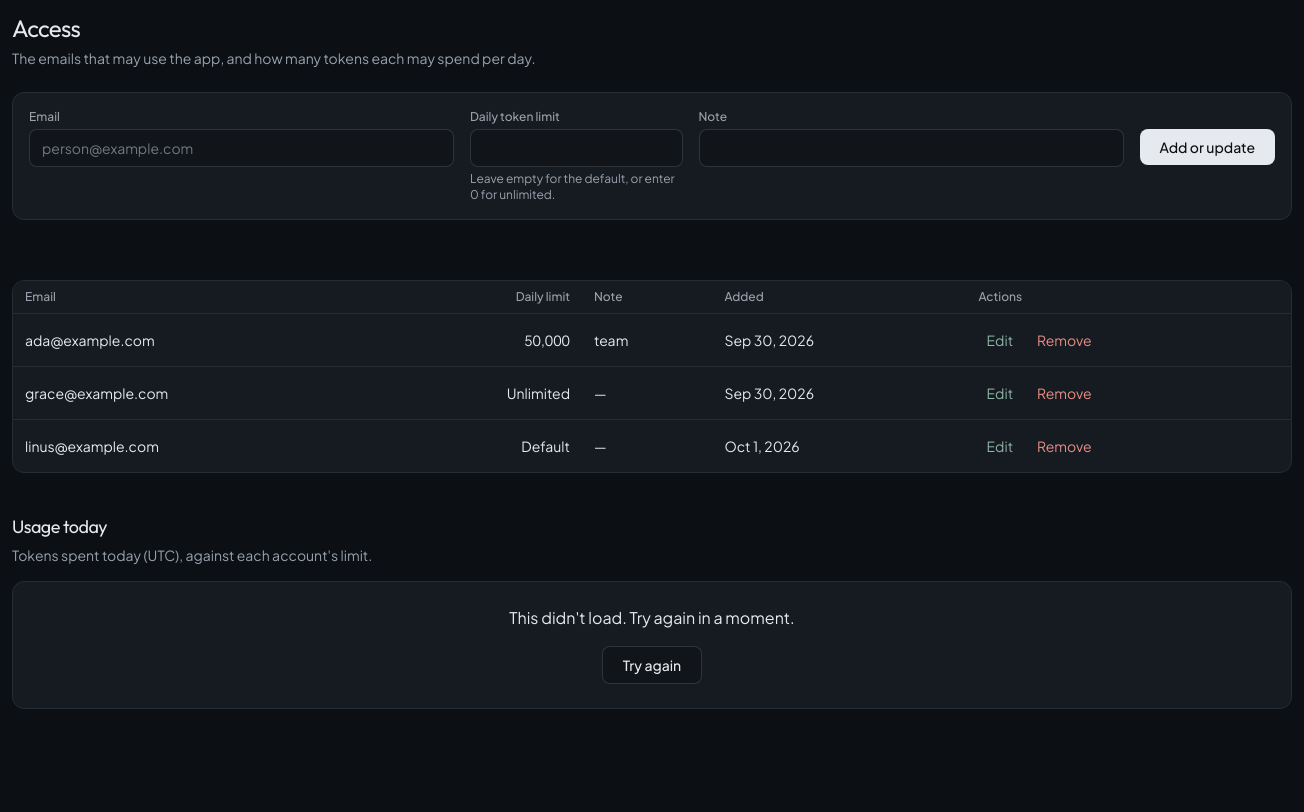
Test case: AccessClientPage — usage today › a usage that fails does not take the access list down, and can be retried
The image size is (1304, 812).
expect the button "Reload" is not shown: met
Click the button "Try again": (652, 665) [602,646,702,684]
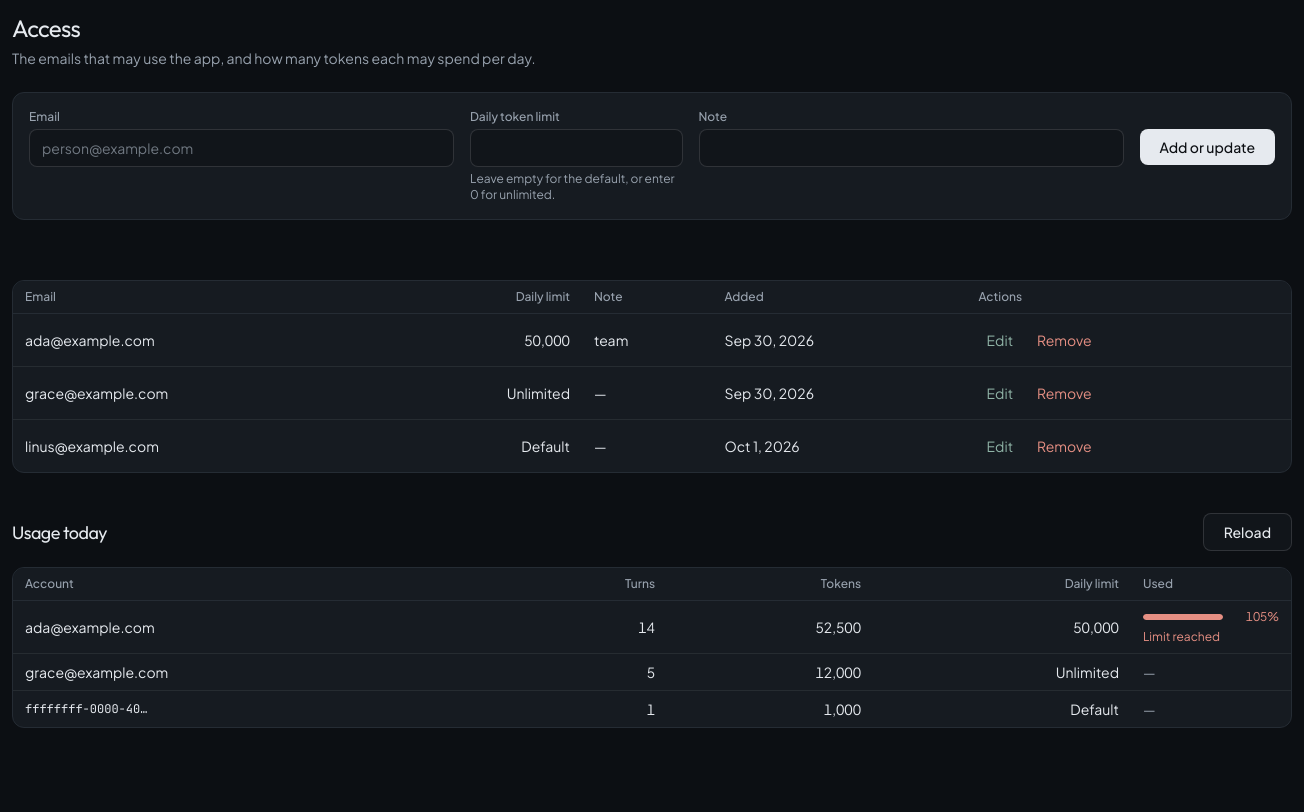
expect the button "Reload" is shown: met, box [1203,513,1292,551]
